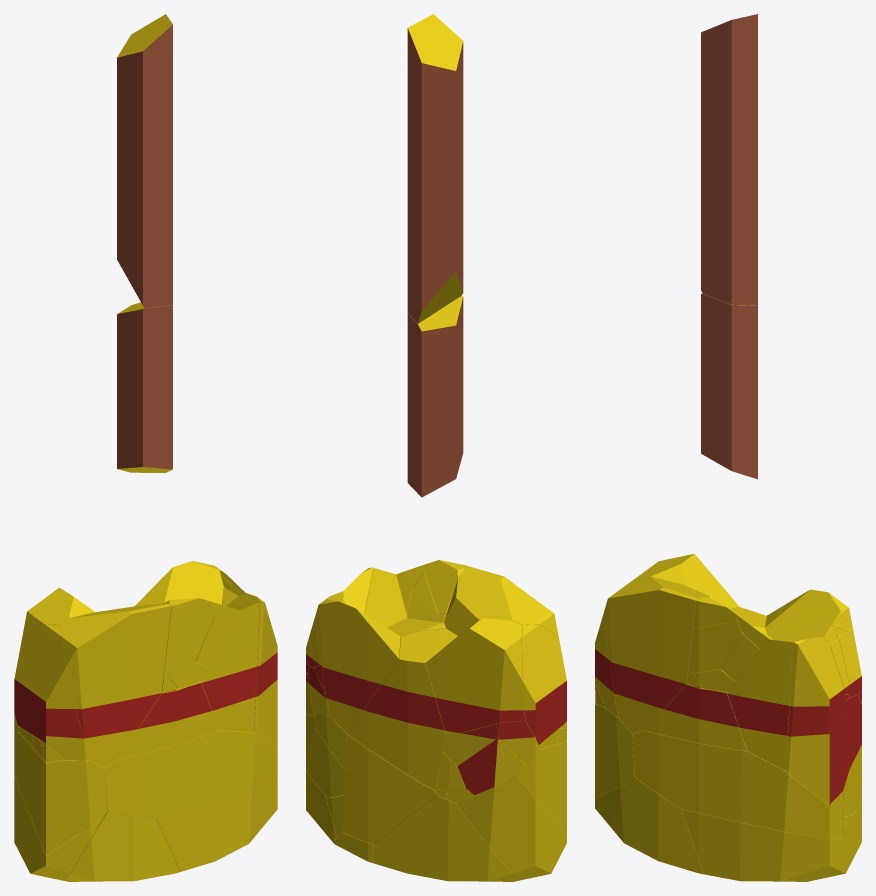
Rendered from Broom.fbx.
The picture shows the model from 3 angles, left to right: view 1: azimuth 30°, elevation 25°; view 2: azimuth 150°, elevation 25°; view 3: azimuth 330°, elevation 25°; orthographic projection. The views are drawn at different scales.
Visible parts, largest first — view 1: Cube_cell.028, Cube_cell.020, Cube_cell.009, Cube_cell.008, Cube_cell.001, Cube_cell.022, Cube_cell, Cube_cell.004, Cube_cell.013, Cube_cell.030, Cube_cell.023, Cube_cell.002 (+6 smaller); view 2: Cube_cell.028, Cube_cell.008, Cube_cell.033, Cube_cell.016, Cube_cell.014, Cube_cell.019, Cube_cell.002, Cube_cell.009, Cube_cell.020, Cube_cell.022, Cube_cell.001, Cube_cell.031_cell.002 (+14 smaller); view 3: Cube_cell.028, Cube_cell.009, Cube_cell.020, Cube_cell.008, Cube_cell.023, Cube_cell, Cube_cell.013, Cube_cell.004, Cube_cell.030, Cube_cell.019, Cube_cell.001, Cube_cell.016 (+10 smaller).
Part boxes in pixels (left/top/right/bottom): Cube_cell.028: left=117, top=14, right=172, bottom=308; Cube_cell.020: left=62, top=603, right=171, bottom=768; Cube_cell.009: left=104, top=730, right=277, bottom=818; Cube_cell.008: left=117, top=302, right=172, bottom=472; Cube_cell.001: left=14, top=732, right=107, bottom=855; Cube_cell.022: left=14, top=624, right=88, bottom=760; Cube_cell: left=156, top=783, right=277, bottom=871; Cube_cell.004: left=64, top=811, right=179, bottom=881; Cube_cell.013: left=201, top=602, right=259, bottom=732; Cube_cell.030: left=118, top=682, right=219, bottom=759; Cube_cell.023: left=226, top=593, right=277, bottom=749; Cube_cell.002: left=14, top=777, right=107, bottom=879; Cube_cell.028: left=407, top=14, right=463, bottom=323; Cube_cell.008: left=407, top=295, right=463, bottom=497; Cube_cell.033: left=347, top=628, right=457, bottom=790; Cube_cell.016: left=425, top=618, right=525, bottom=736; Cube_cell.014: left=372, top=796, right=525, bottom=881; Cube_cell.019: left=315, top=599, right=400, bottom=732; Cube_cell.002: left=455, top=774, right=566, bottom=878; Cube_cell.009: left=343, top=733, right=437, bottom=844; Cube_cell.020: left=444, top=566, right=558, bottom=636; Cube_cell.022: left=522, top=624, right=566, bottom=744; Cube_cell.001: left=516, top=741, right=566, bottom=832; Cube_cell.031_cell.002: left=457, top=737, right=526, bottom=795; Cube_cell.028: left=701, top=14, right=757, bottom=305; Cube_cell.009: left=633, top=730, right=843, bottom=839; Cube_cell.020: left=603, top=576, right=709, bottom=733; Cube_cell.008: left=701, top=293, right=757, bottom=479; Cube_cell.023: left=786, top=636, right=849, bottom=804; Cube_cell: left=681, top=809, right=852, bottom=881; Cube_cell.013: left=727, top=639, right=792, bottom=770; Cube_cell.004: left=609, top=778, right=703, bottom=874; Cube_cell.030: left=645, top=631, right=774, bottom=751; Cube_cell.019: left=765, top=589, right=851, bottom=642; Cube_cell.001: left=595, top=704, right=634, bottom=797; Cube_cell.016: left=640, top=553, right=739, bottom=608.
Bounding box in the file's own units: 200 × 704 × 87.33.
